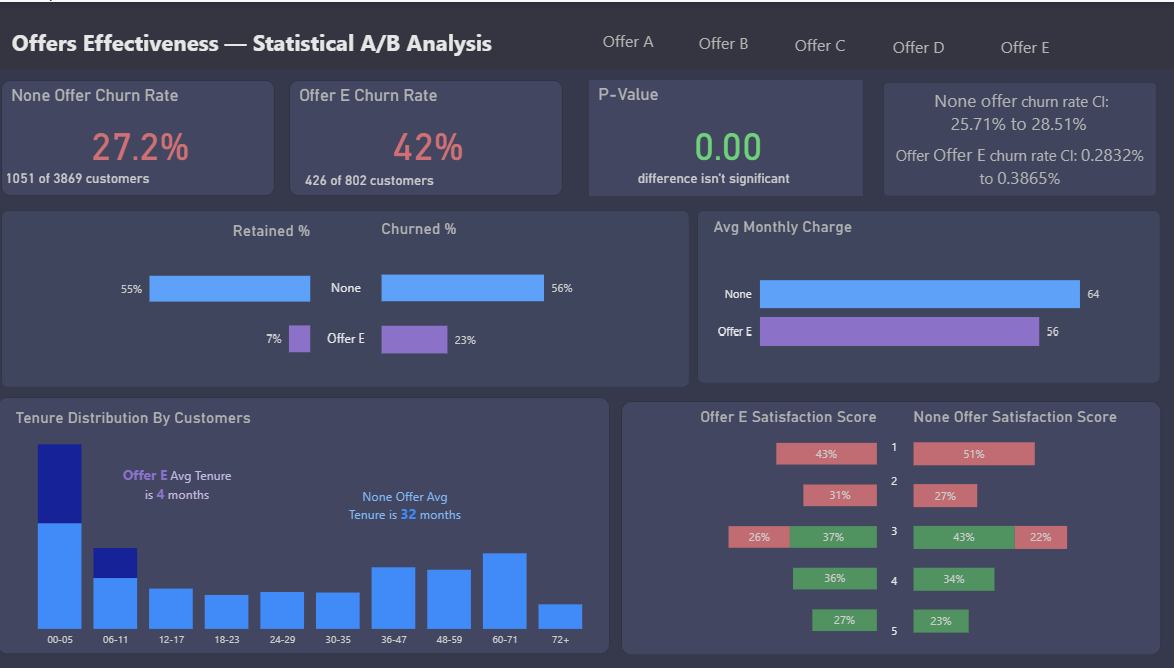

The page's visual inventory and layout, read from the dashboard file:
{"tool":"powerbi","page":{"name":"Offer A/B test","canvas":[1280,720],"ordinal":4},"visuals":[{"type":"shape","box":[0,0,1280,72.9],"z":0,"group":"g3"},{"type":"group","id":"g1","title":"Group 8","box":[9.9,83,295.3,125],"z":0},{"type":"card","title":"None Offer Churn Rate","fields":{"Values":["_calculation.None Offer Churn Rate"]},"box":[10.2,83,295,125],"z":0,"group":"g1"},{"type":"card","title":"Offer E Churn Rate","fields":{"Values":["_calculation.Churn Rate"]},"box":[322.5,85,295,125],"z":0,"group":"g8"},{"type":"card","title":"P-Value","fields":{"Values":["Sum(offers A/B results.p-value)"]},"box":[645.1,85,295,125],"z":0,"group":"g7"},{"type":"shape","box":[962.4,87.3,295,123.5],"z":0,"group":"g10"},{"type":"group","id":"g2","title":"Churn vs Retained","box":[7,225.9,746.4,191],"z":0,"group":"g9"},{"type":"shape","box":[11,225.9,742.1,190.5],"z":0,"group":"g2"},{"type":"shape","box":[760,226.5,499.5,186],"z":0,"group":"g4"},{"type":"shape","box":[7.4,426.4,660.4,277.3],"z":0,"group":"g5"},{"type":"shape","box":[678.4,429.5,582,274.2],"z":0,"group":"g6"},{"type":"group","id":"g3","title":"Header","box":[0,0,1280,72.9],"z":1000},{"type":"actionButton","box":[1083.1,28.4,72,39.8],"z":1000,"group":"g3"},{"type":"enlightenDataStoryDDFB78A6143E42CFAFBC50CCF18D978D","fields":{"measure":["Min(offers A/B results.offer)","Sum(offers A/B results.low bound CI)","Sum(offers A/B results.high bound CI)"]},"box":[962.4,148,294.5,61.1],"z":1000,"group":"g10"},{"type":"card","fields":{"Values":["_calculation.Churn Subtitle"]},"box":[9.9,173.4,168.5,33],"z":1000,"group":"g1"},{"type":"card","fields":{"Values":["_calculation.P Value Result"]},"box":[645.6,175.6,269.2,34.7],"z":1000,"group":"g7"},{"type":"card","fields":{"Values":["_calculation.Churn Subtitle"]},"box":[327.7,178,168.5,33],"z":1000,"group":"g8"},{"type":"group","id":"g4","title":"Offer","box":[758,223.8,502.2,190],"z":1000,"group":"g9"},{"type":"clusteredBarChart","title":"Avg Monthly Charge","fields":{"Y":["_calculation.Monthly Charge"],"Category":["telco telco_customer_churn_services.Offer"]},"box":[758,223.8,502.2,190],"z":1000,"group":"g4"},{"type":"barChart","title":"Retained %","fields":{"Category":["telco telco_customer_churn_services.Offer"],"Y":["_calculation.Retained %"]},"box":[7,229,357.7,186],"z":1000,"group":"g2"},{"type":"columnChart","title":"Tenure Distribution By Customers","fields":{"Category":["telco telco_customer_churn_services.Tenure in Months Group"],"Y":["CountNonNull(telco telco_customer_churn.CustomerID)"],"Series":["telco telco_customer_churn_services.Offer"]},"box":[7.4,427.9,660.4,275.7],"z":1000,"group":"g5"},{"type":"textbox","box":[931.6,462.7,84.5,233],"z":1000,"group":"g6"},{"type":"actionButton","box":[967.6,28.4,72,39.8],"z":2000,"group":"g3"},{"type":"textbox","box":[961.6,88.8,302.7,74.7],"z":2000,"group":"g10"},{"type":"barChart","title":"Churned %","fields":{"Category":["telco telco_customer_churn_services.Offer"],"Y":["_calculation.Churn %"]},"box":[402.2,226.4,351.2,190.5],"z":2000,"group":"g2"},{"type":"group","id":"g5","title":"Tenure Part","box":[7.4,426.4,660.4,277.3],"z":2000,"group":"g9"},{"type":"barChart","title":"Offer E Satisfaction Score ","fields":{"Category":["telco telco_customer_churn_status.Satisfaction Score"],"Series":["telco vw_customer_status.Churn Label"],"Y":["_calculation.Satisfaction %"]},"box":[681.5,426.9,283.5,276.3],"z":2000,"group":"g6"},{"type":"enlightenDataStoryDDFB78A6143E42CFAFBC50CCF18D978D","fields":{"measure":["Min(offers A/B results.offer)","_calculation.Avg Tenure"]},"box":[133.3,494.8,137.9,69],"z":2000,"group":"g5"},{"type":"actionButton","box":[861.5,26.5,72,39.8],"z":3000,"group":"g3"},{"type":"textbox","box":[327.3,295.2,110.1,93.7],"z":3000,"group":"g2"},{"type":"group","id":"g6","title":"Staisfaction score","box":[678.4,426.9,582,278.4],"z":3000,"group":"g9"},{"type":"barChart","title":"None Offer Satisfaction Score","fields":{"Category":["telco telco_customer_churn_status.Satisfaction Score"],"Series":["telco vw_customer_status.Churn Label"],"Y":["_calculation.None Offer Satisfaction %"]},"box":[974.3,427.9,285.6,277.3],"z":3000,"group":"g6"},{"type":"enlightenDataStoryDDFB78A6143E42CFAFBC50CCF18D978D","fields":{"measure":["_calculation.Avg None Offer Tuner"]},"box":[379,518.5,137.9,66.8],"z":3000,"group":"g5"},{"type":"actionButton","box":[759.3,22.7,72,39.8],"z":4000,"group":"g3"},{"type":"group","id":"g7","title":"Group 5","box":[645.1,85,295,125.3],"z":4000,"group":"g9"},{"type":"actionButton","box":[655.1,20.8,72,39.8],"z":5000,"group":"g3"},{"type":"group","id":"g8","title":"Group 7","box":[322.5,85,295,126],"z":5000,"group":"g9"},{"type":"textbox","box":[10.2,21.6,575.1,51.2],"z":6000,"group":"g3"},{"type":"group","id":"g9","title":"offer E","box":[7,85,1257.3,620.2],"z":6000},{"type":"group","id":"g10","title":"Group 1","box":[961.6,87.3,302.7,123.5],"z":6000,"group":"g9"}]}

Visuals, with their boxes in screenshot pixels (x1, y1, x2, y2), scaled from the page's 1280x720 canvas onto the 1174x668 screenshot:
shape: (0,0,1173,68)
"Group 8" group: (9,77,280,193)
"None Offer Churn Rate" card: (9,77,280,193)
"Offer E Churn Rate" card: (296,79,566,195)
"P-Value" card: (592,79,862,195)
shape: (883,81,1153,196)
"Churn vs Retained" group: (6,210,691,387)
shape: (10,210,691,386)
shape: (697,210,1155,383)
shape: (7,396,612,653)
shape: (622,398,1156,653)
"Header" group: (0,0,1173,68)
actionButton: (993,26,1059,63)
enlightenDataStoryDDFB78A6143E42CFAFBC50CCF18D978D - Min(offers A/B results.offer) x Sum(offers A/B results.low bound CI): (883,137,1153,194)
card - _calculation.Churn Subtitle: (9,161,164,191)
card - _calculation.P Value Result: (592,163,839,195)
card - _calculation.Churn Subtitle: (301,165,455,196)
"Offer" group: (695,208,1156,384)
"Avg Monthly Charge" clusteredBarChart: (695,208,1156,384)
"Retained %" barChart: (6,212,334,385)
"Tenure Distribution By Customers" columnChart: (7,397,612,653)
textbox: (854,429,932,645)
actionButton: (887,26,954,63)
textbox: (882,82,1160,152)
"Churned %" barChart: (369,210,691,387)
"Tenure Part" group: (7,396,612,653)
"Offer E Satisfaction Score " barChart: (625,396,885,652)
enlightenDataStoryDDFB78A6143E42CFAFBC50CCF18D978D - Min(offers A/B results.offer) x _calculation.Avg Tenure: (122,459,249,523)
actionButton: (790,25,856,62)
textbox: (300,274,401,361)
"Staisfaction score" group: (622,396,1156,654)
"None Offer Satisfaction Score" barChart: (894,397,1156,654)
enlightenDataStoryDDFB78A6143E42CFAFBC50CCF18D978D - _calculation.Avg None Offer Tuner: (348,481,474,543)
actionButton: (696,21,762,58)
"Group 5" group: (592,79,862,195)
actionButton: (601,19,667,56)
"Group 7" group: (296,79,566,196)
textbox: (9,20,537,68)
"offer E" group: (6,79,1160,654)
"Group 1" group: (882,81,1160,196)
